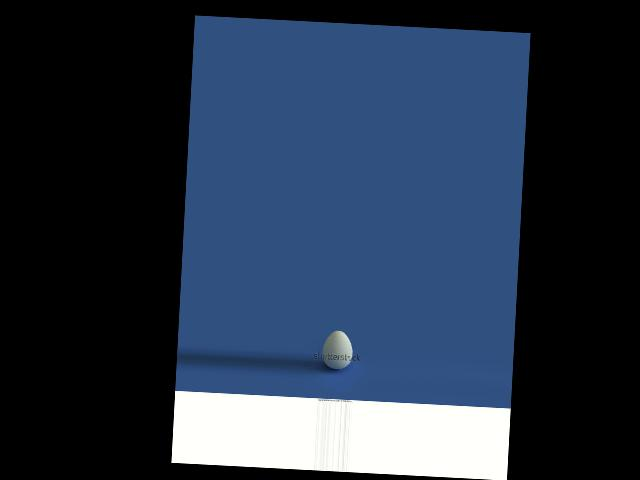egg: (321, 329, 354, 370)
